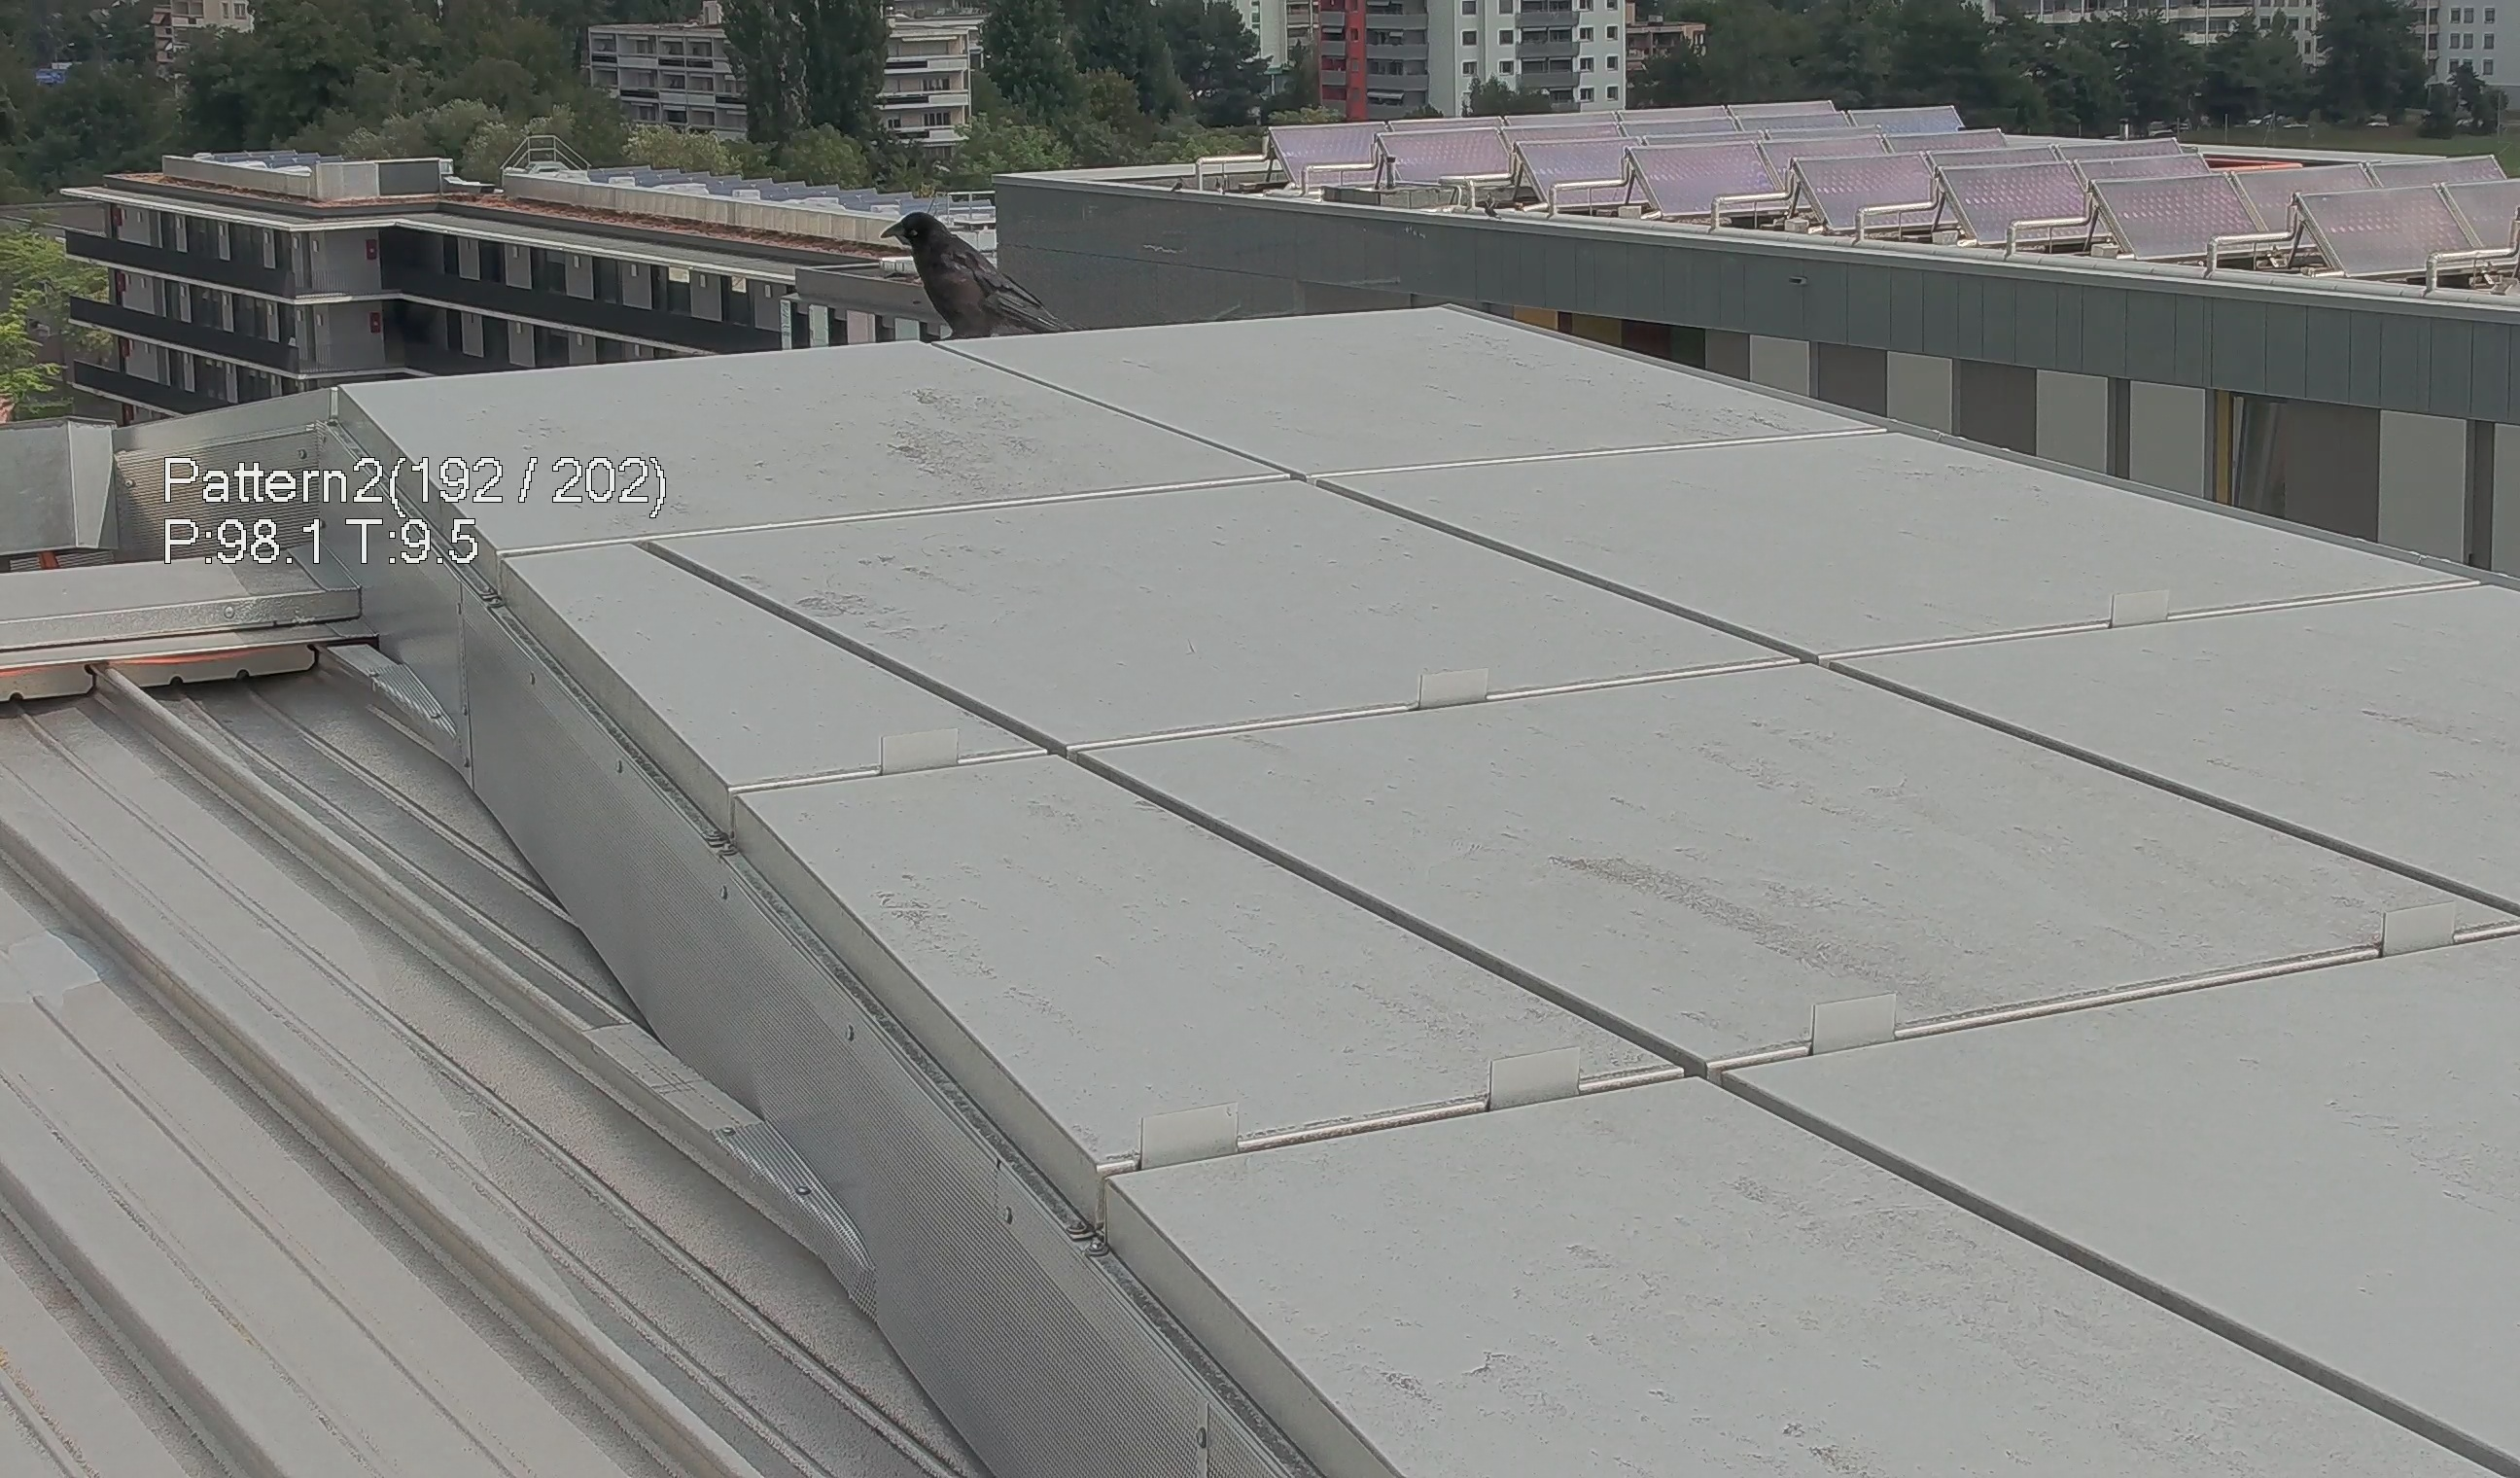Pigeon: (869, 195, 1050, 340)
